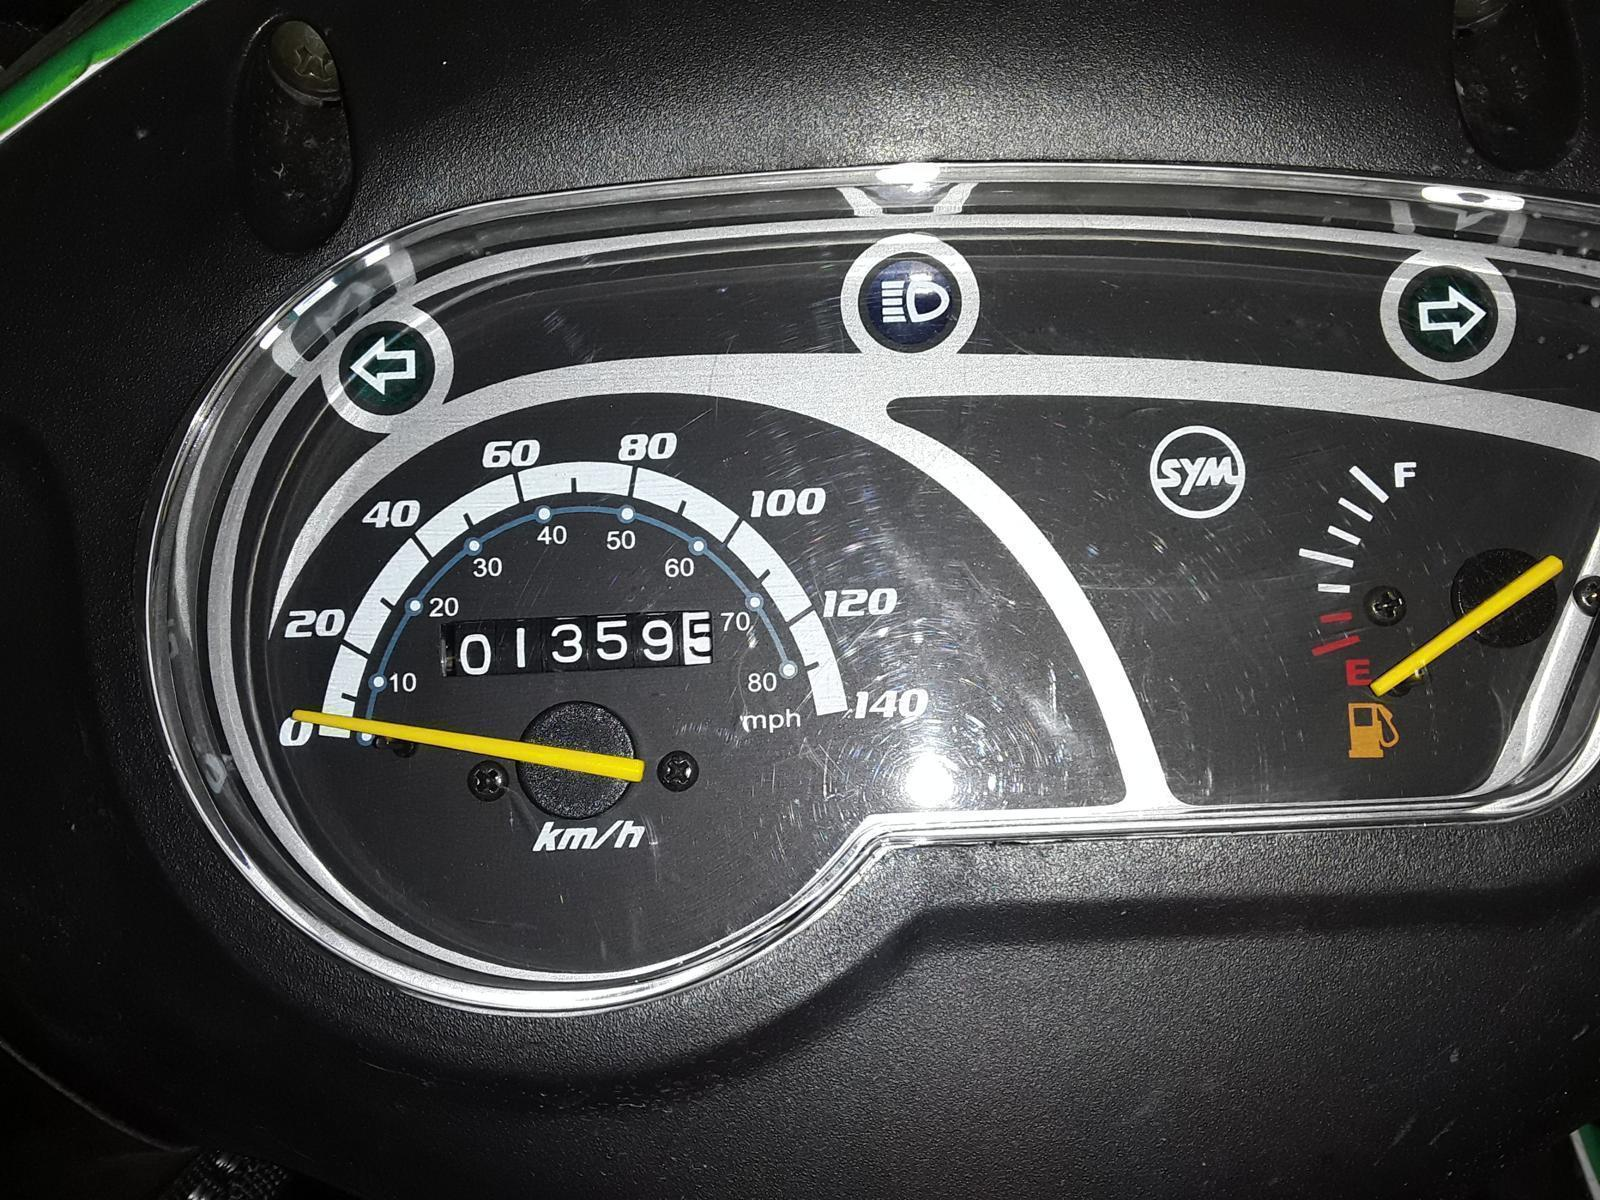0: (454, 626, 495, 677)
1: (510, 621, 532, 668)
3: (548, 621, 585, 667)
5: (593, 619, 631, 666), (685, 616, 716, 666)
9: (639, 616, 674, 662)
odometer: (436, 608, 722, 681)
